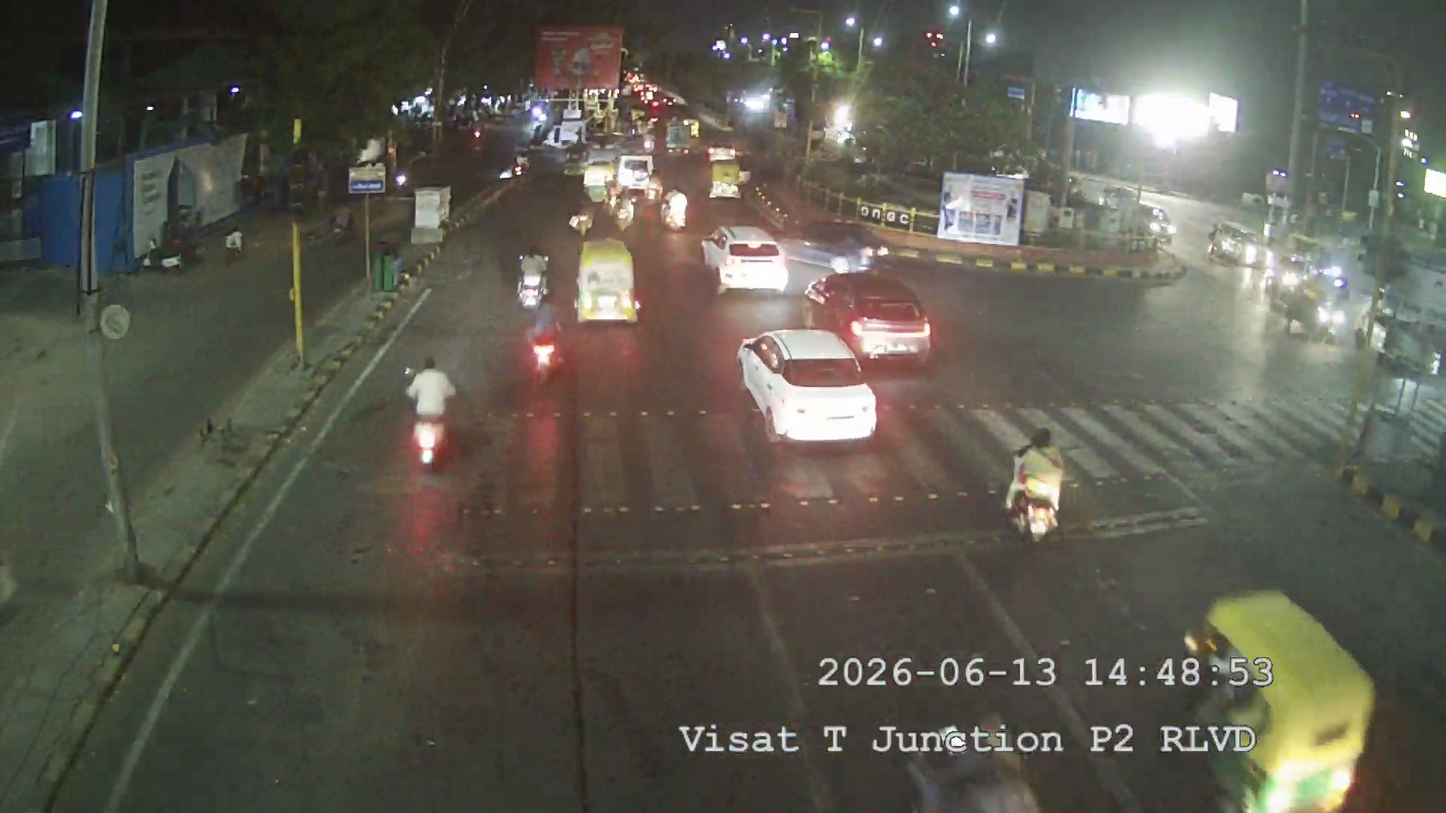auto_rickshaw: (1174, 581, 1382, 799), (573, 236, 639, 322), (705, 144, 747, 200), (611, 149, 658, 194)
car: (731, 324, 880, 446), (800, 272, 938, 365), (703, 222, 789, 296)
two_wheeler: (996, 426, 1080, 545), (394, 351, 463, 476), (523, 304, 565, 378), (511, 243, 552, 310), (659, 182, 691, 233), (221, 219, 249, 263)
